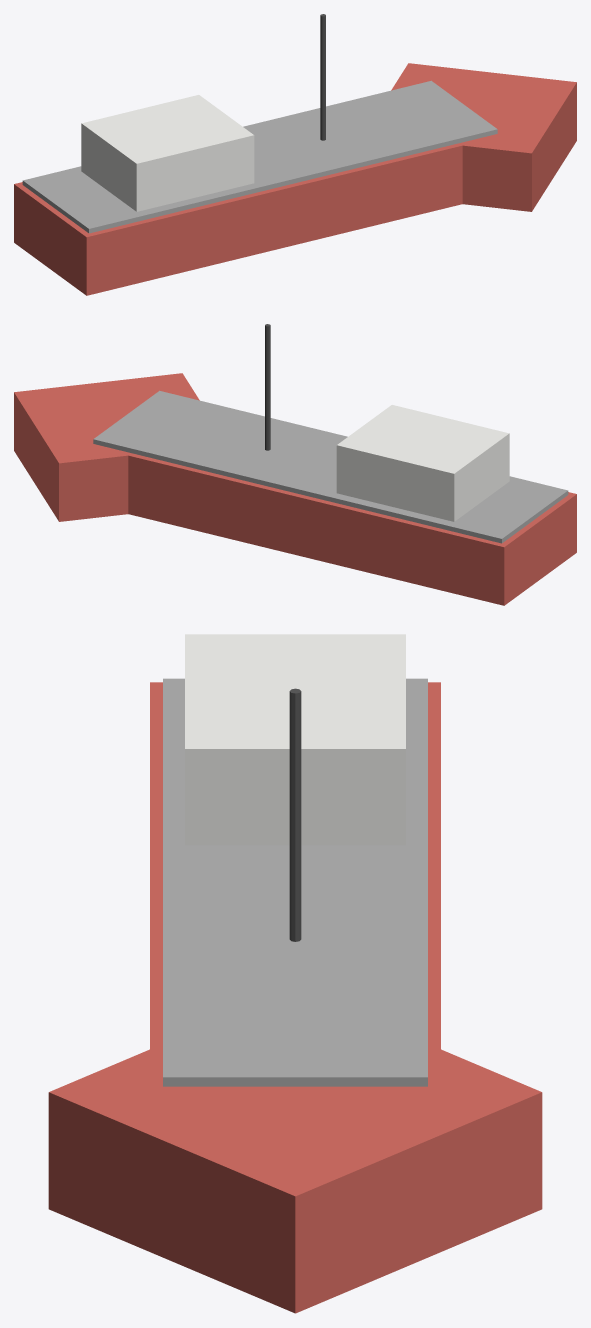
File: inshore_dragger.glb
3 views of the same model, one above another, from view 1: azimuth 30°, elevation 25°; view 2: azimuth 150°, elevation 25°; view 3: azimuth 270°, elevation 25° (orthographic). The views are drawn at different scales.
Visible parts, largest first — view 1: hull, deck, cabin, bow, mast; view 2: hull, deck, cabin, bow, mast; view 3: bow, deck, cabin, hull, mast.
Boxes of the visible parts, x1,y1,x2,y2 form: hull: (14,86,505,295); deck: (22,80,497,233); cabin: (81,95,254,211); bow: (391,63,576,211); mast: (320,14,325,140); hull: (85,405,576,605); deck: (93,390,568,543); cabin: (336,405,509,521); bow: (14,373,199,521); mast: (265,324,270,450); bow: (48,1044,542,1313); deck: (163,678,427,1086); cabin: (185,634,405,845); hull: (150,682,440,1092); mast: (289,688,301,941).
Bounding box in the file's own units: 18.82 × 6.4 × 7.63.
